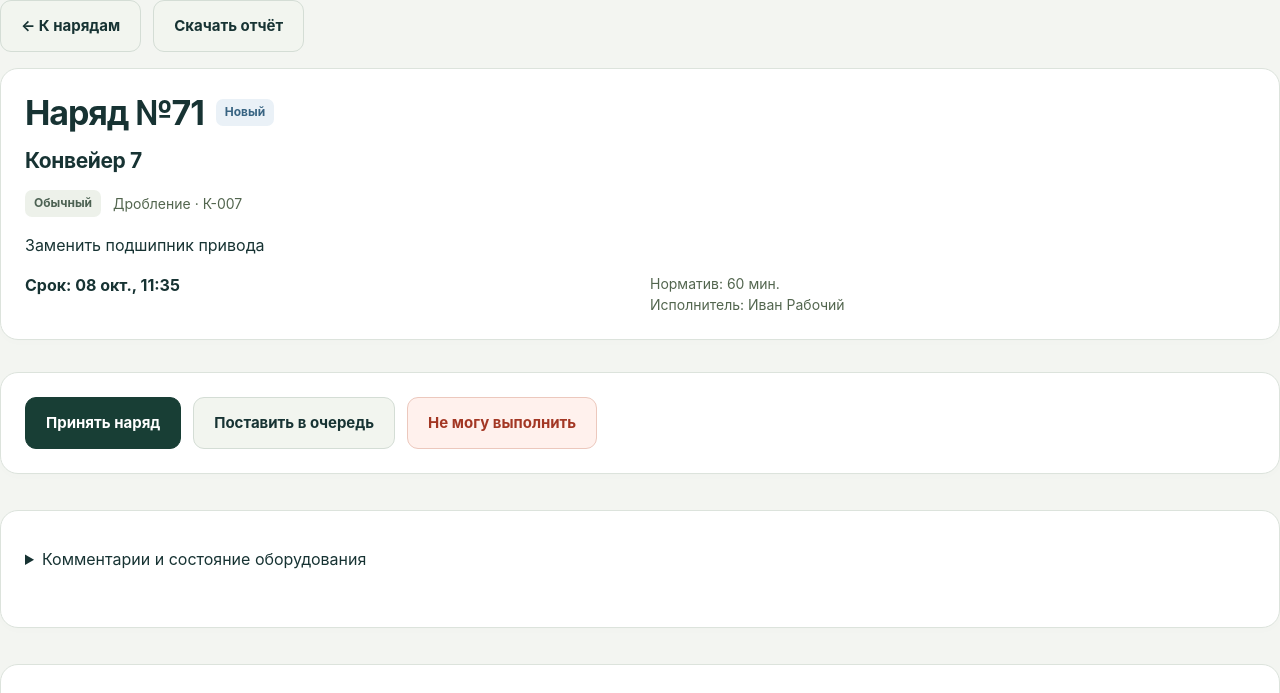
Scenario: OrderDetail: рабочий и мастер › проводит рабочего через принятие, начало и паузу с причиной и актуальными версиями
Expected: the heading "Наряд №71" is shown, [25,93,204,132]
Click the button "Принять наряд".
click(103, 423)  # box [25,397,181,449]
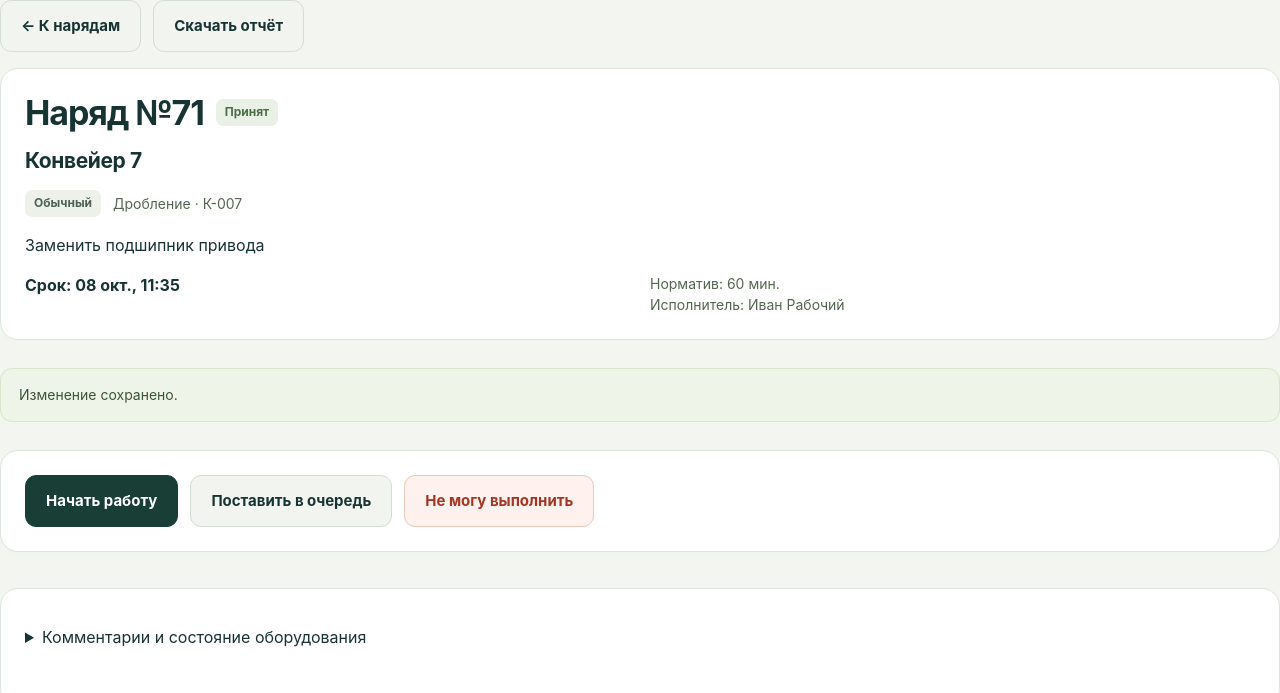
Click the button "Начать работу".
click(102, 501)  # box [25,475,178,527]
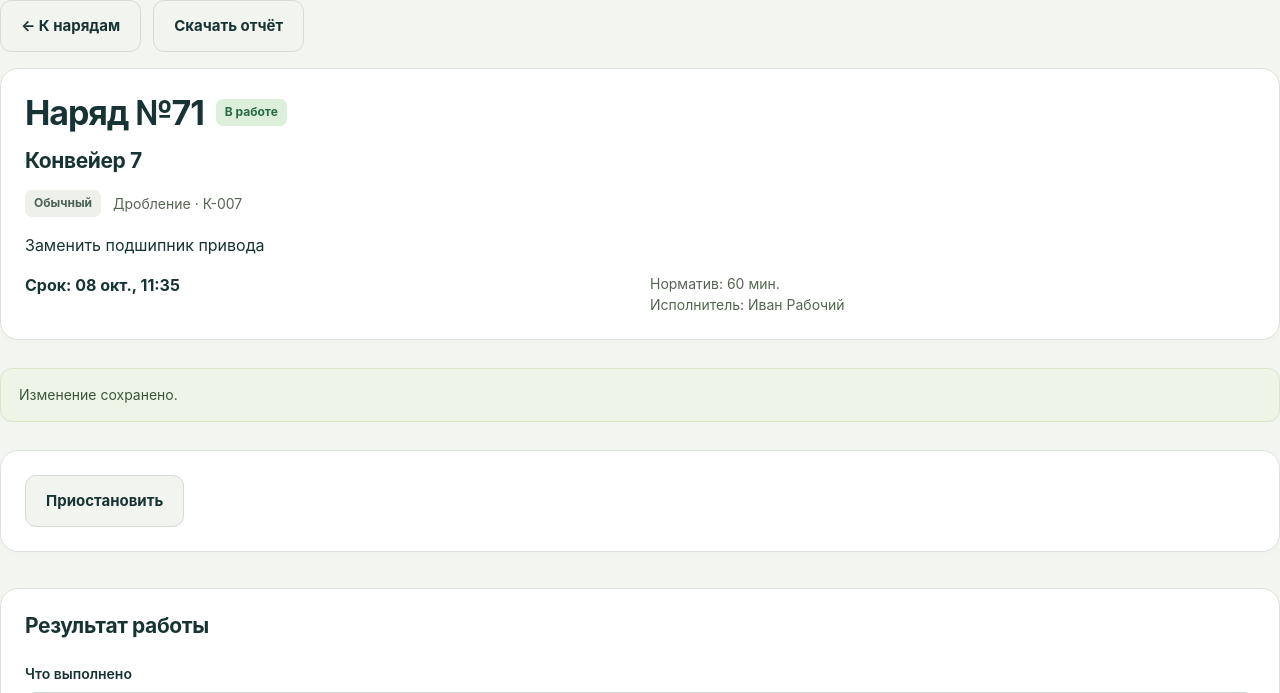
Click the button "Приостановить".
click(105, 501)  # box [25,475,184,527]
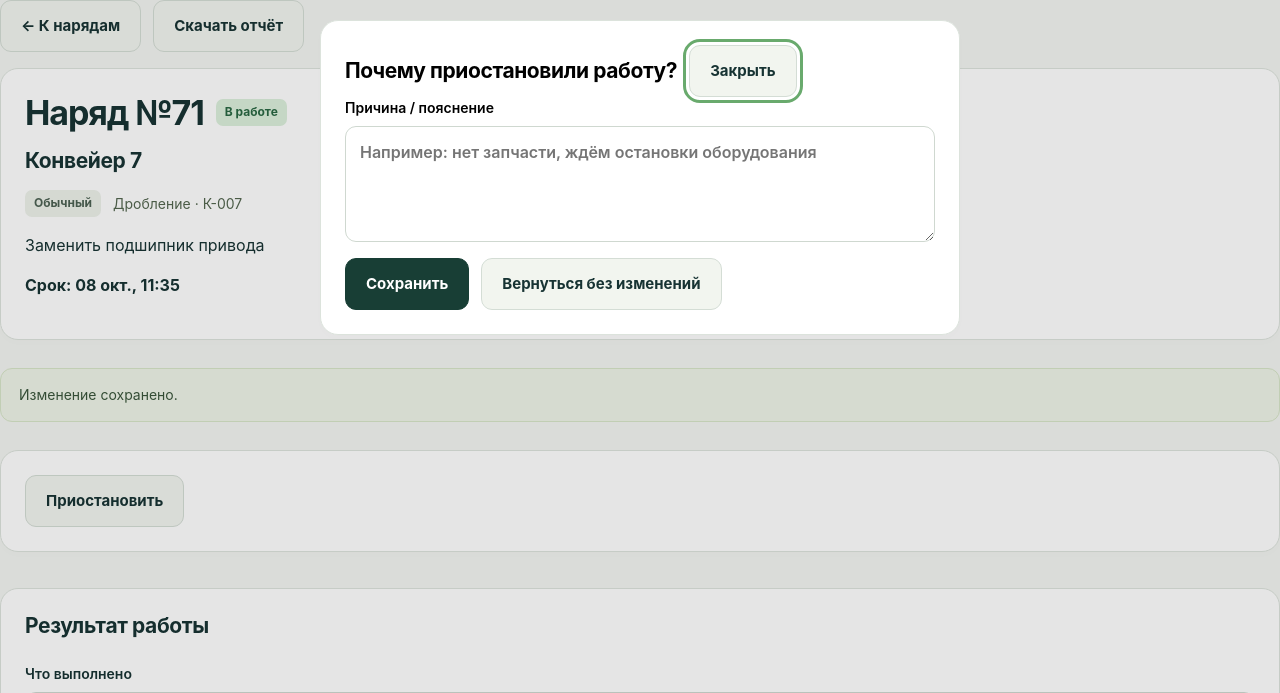
Type "Ожидаем подшипник со склада" into the text box labelled "Причина / пояснение".
click(640, 184); type("Ожидаем подшипник со склада")  # box [345,126,935,242]
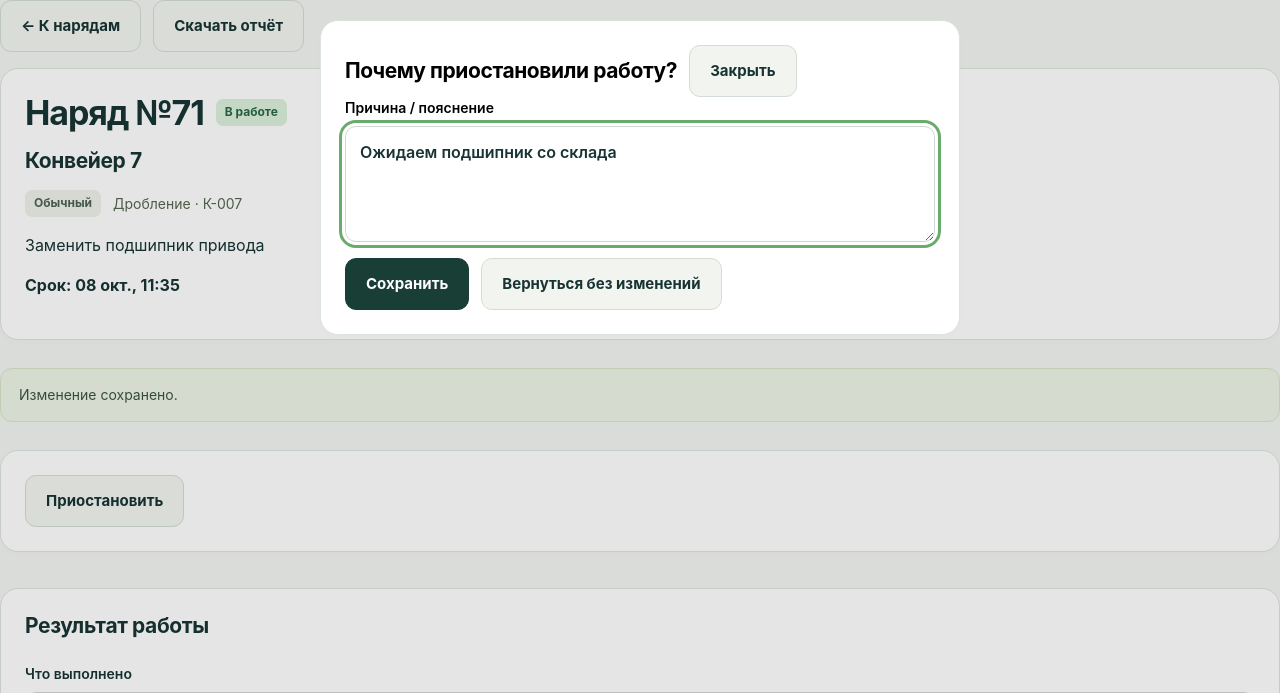
Click the button "Сохранить".
click(407, 284)  # box [345,258,469,310]
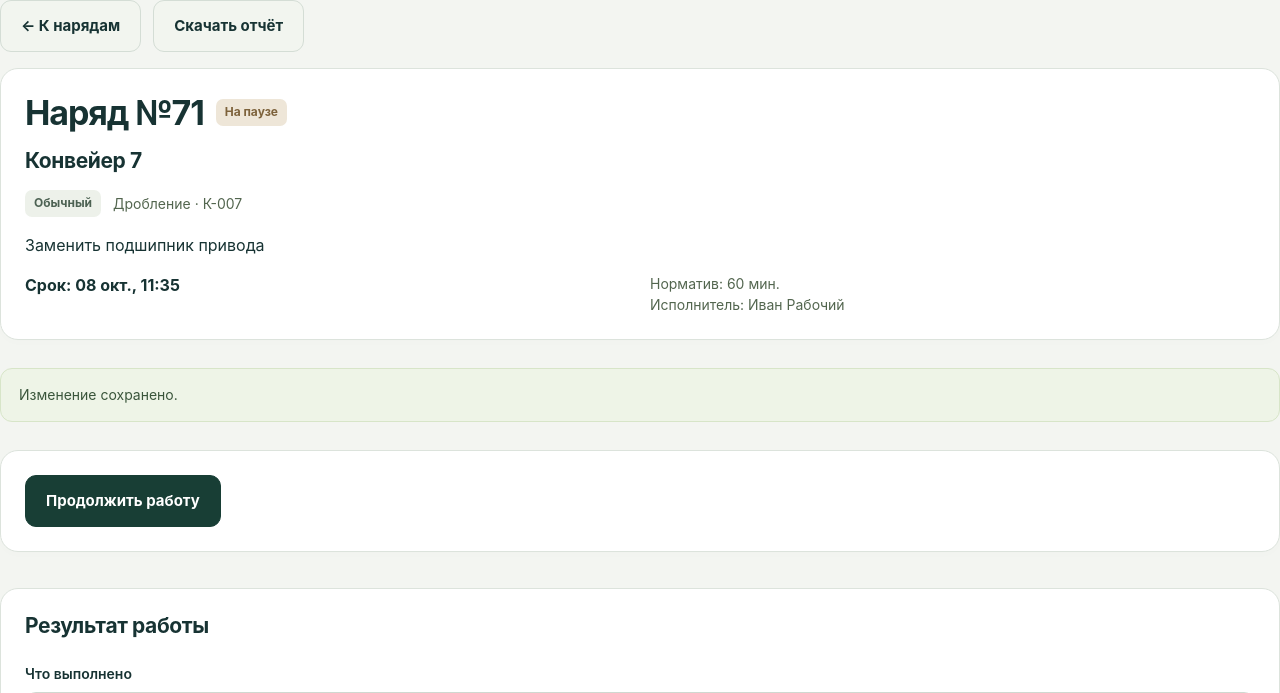
Expected: the button "Продолжить работу" is shown, [25,475,221,527]
